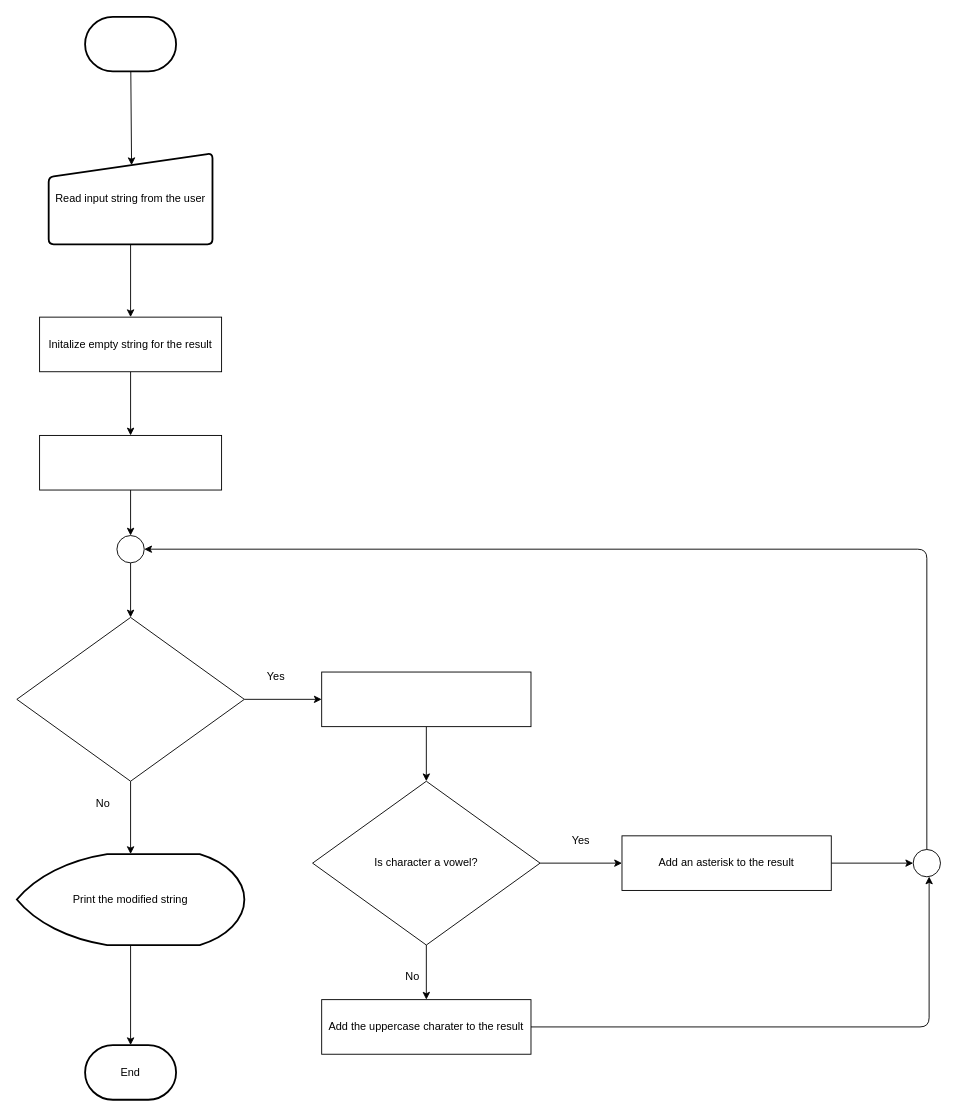
The diagram is 956 pixels wide and 1116 high, and some of its shapes have lost their labels. Here are the shapes that lost their labels. From the top down, the centre of each, then its label:
(x=130, y=43): start
(x=130, y=462): Define vowels as "aeiouAEIOU"
(x=130, y=699): More characters in string?
(x=426, y=699): Covert character to uppercase
